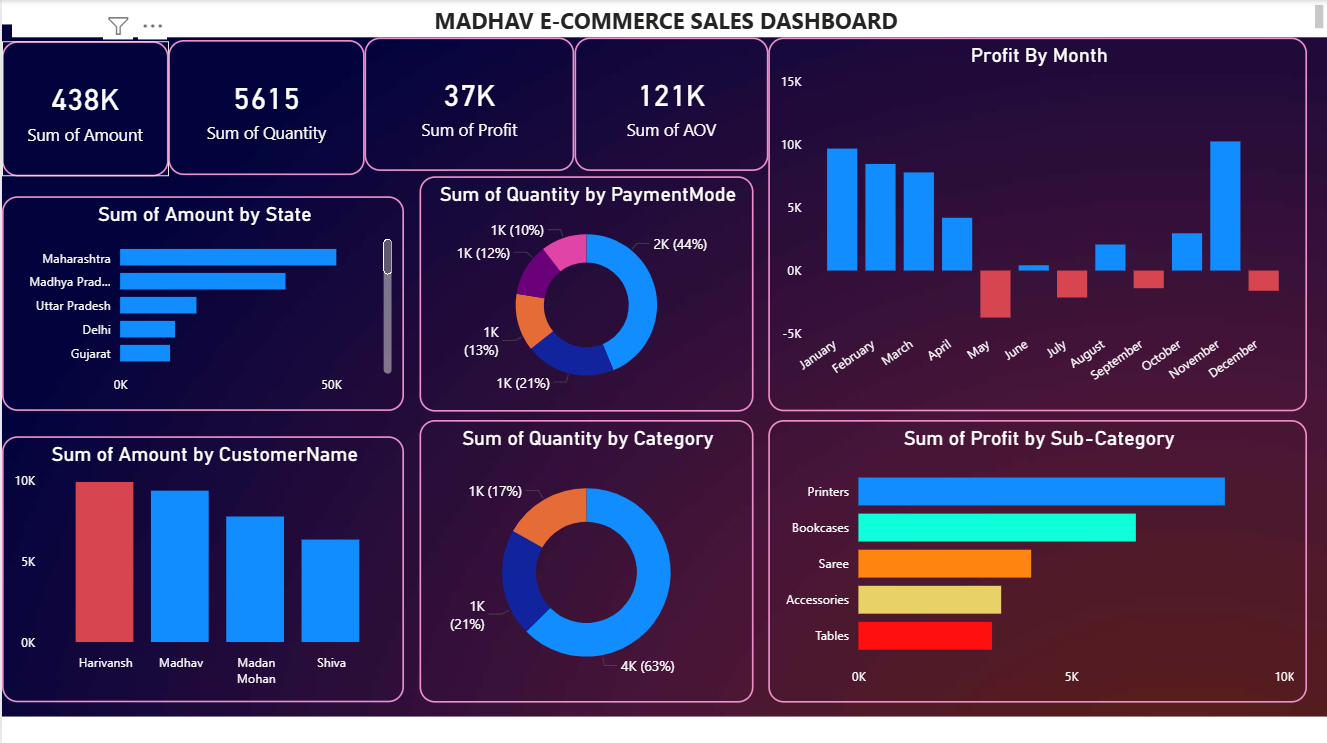

Layout of this report page (visuals, bound fields, positions):
{"tool":"powerbi","page":{"name":"Page 1","canvas":[1280,720],"ordinal":0},"visuals":[{"type":"textbox","box":[9.6,0,1270.7,35.7],"z":0},{"type":"columnChart","title":"Profit By Month","fields":{"Category":["Orders.Order Date.Variation.Date Hierarchy.Month"],"Y":["Sum(Details.Profit)"]},"box":[739.5,36.2,520,360.7],"z":1000},{"type":"barChart","fields":{"Category":["Details.Sub-Category"],"Y":["Sum(Details.Profit)"]},"box":[739.5,405.4,520,272.7],"z":2000},{"type":"donutChart","fields":{"Category":["Details.Category"],"Y":["Sum(Details.Quantity)"]},"box":[403,405.4,322.1,272.7],"z":3000},{"type":"donutChart","fields":{"Y":["Sum(Details.Quantity)"],"Category":["Details.PaymentMode"]},"box":[403,170.1,322.1,226.8],"z":4000},{"type":"card","fields":{"Values":["Sum(Details.Amount)"]},"box":[0,39.8,160.5,130.4],"z":5000},{"type":"card","fields":{"Values":["Sum(Details.Quantity)"]},"box":[160.5,38.4,189.4,130.4],"z":6000},{"type":"card","fields":{"Values":["Sum(Details.Profit)"]},"box":[349.9,36.2,202.7,129.1],"z":7000},{"type":"card","fields":{"Values":["Sum(Details.AOV)"]},"box":[552.5,36.2,187,129.1],"z":8000},{"type":"barChart","fields":{"Y":["Sum(Details.Amount)"],"Category":["Orders.State"]},"box":[0,189.4,388.3,207.2],"z":9000},{"type":"columnChart","fields":{"Category":["Orders.CustomerName"],"Y":["Sum(Details.Amount)"]},"box":[0,421.3,388.3,256.6],"z":10000}]}

Visuals, with their boxes in screenshot pixels (x1, y1, x2, y2):
textbox: l=10, t=0, r=1326, b=34
"Profit By Month" columnChart: l=780, t=35, r=1326, b=415
barChart - Details.Sub-Category x Sum(Details.Profit): l=780, t=424, r=1326, b=712
donutChart - Details.Category x Sum(Details.Quantity): l=425, t=424, r=765, b=712
donutChart - Sum(Details.Quantity) x Details.PaymentMode: l=425, t=176, r=765, b=415
card - Sum(Details.Amount): l=0, t=39, r=169, b=176
card - Sum(Details.Quantity): l=169, t=37, r=369, b=175
card - Sum(Details.Profit): l=369, t=35, r=583, b=171
card - Sum(Details.AOV): l=583, t=35, r=780, b=171
barChart - Sum(Details.Amount) x Orders.State: l=0, t=196, r=410, b=415
columnChart - Orders.CustomerName x Sum(Details.Amount): l=0, t=441, r=410, b=712
